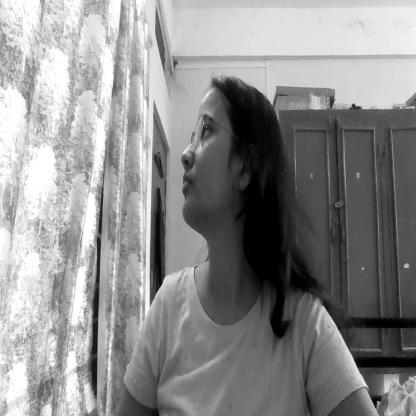Distracted: (181, 71, 271, 246)
